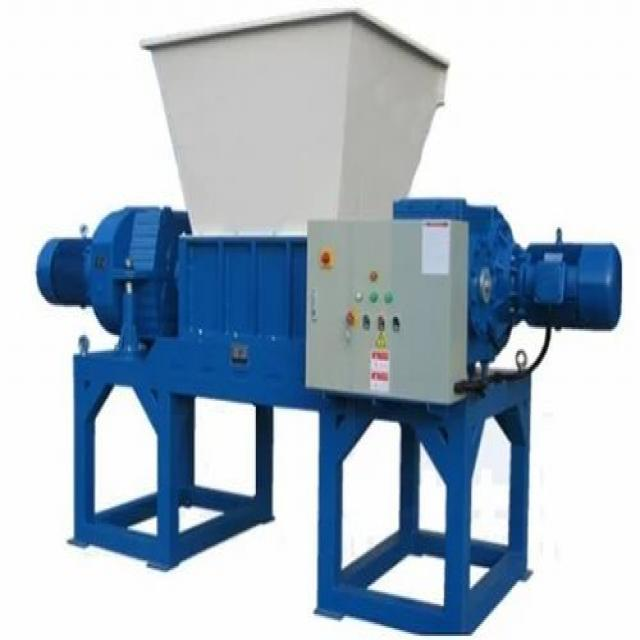Broyeur: (142, 6, 462, 242)
